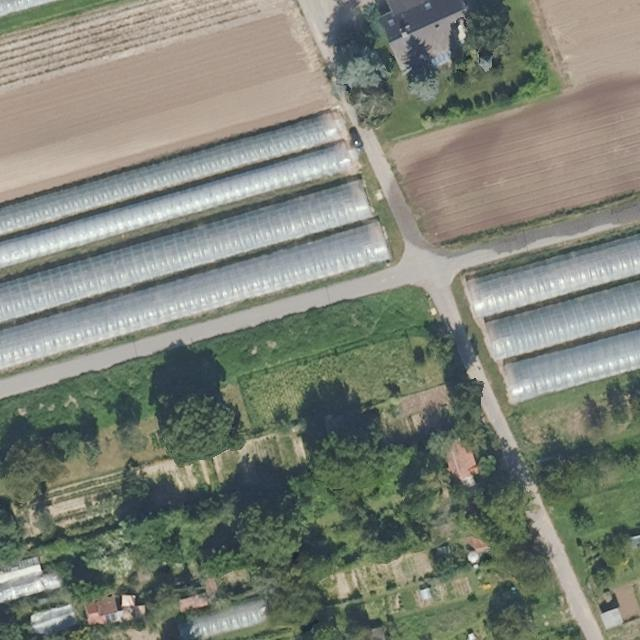PV: (431, 49, 452, 67)
